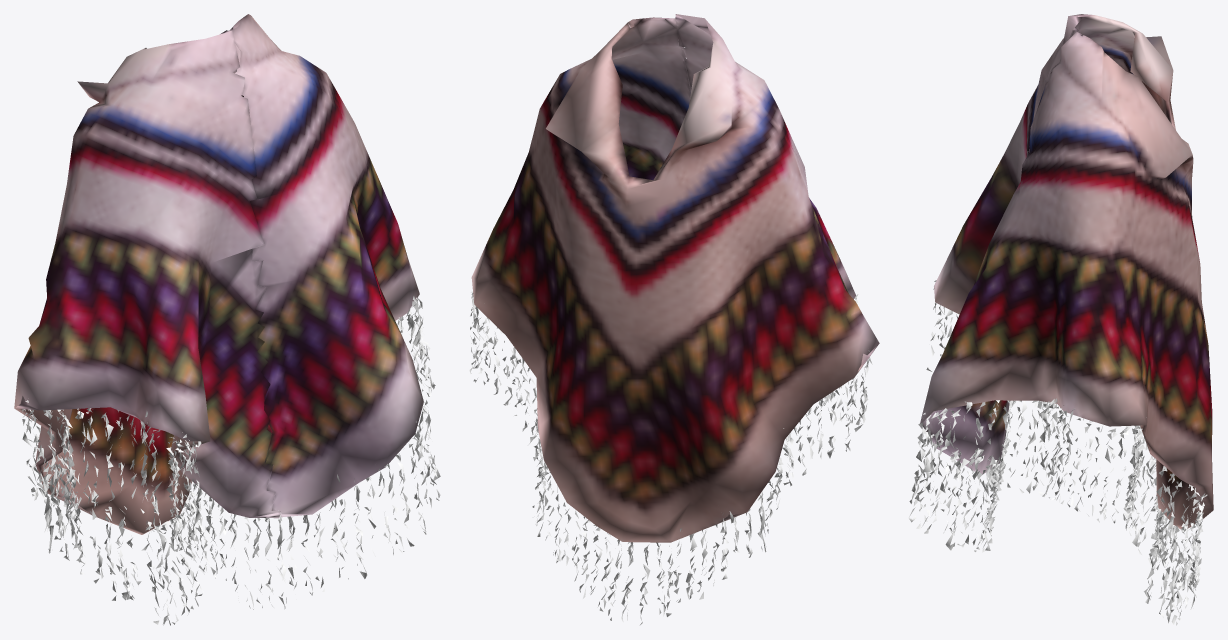
The model's file is SM_poncho.glb.
The picture shows the model from 3 angles, left to right: view 1: azimuth 30°, elevation 25°; view 2: azimuth 150°, elevation 25°; view 3: azimuth 270°, elevation 25°; orthographic projection. The views are drawn at different scales.
Parts seen in each view (by area): view 1: SM_poncho; view 2: SM_poncho; view 3: SM_poncho.
Boxes of the visible parts, x1,y1,x2,y2 form: SM_poncho: (14,14,440,625); SM_poncho: (469,14,879,624); SM_poncho: (909,14,1213,625).
Bounding box in the file's own units: 43.55 × 62.68 × 29.25.
Materials: 2 (1 with a texture image).
